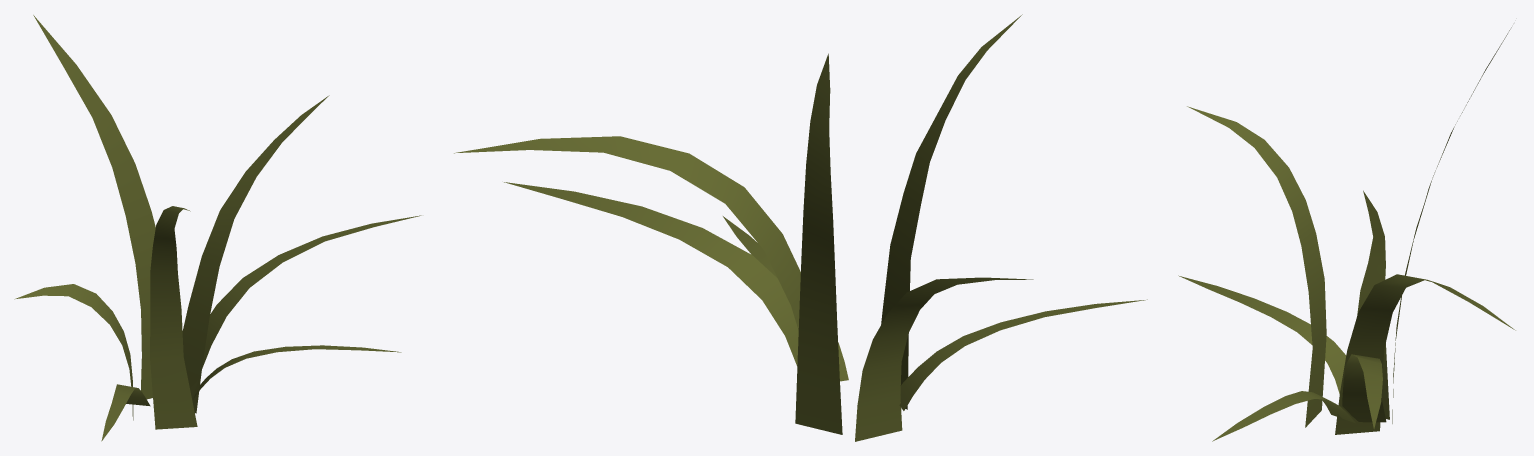
File: TallGrass.fbx
The picture shows the model from 3 angles, left to right: view 1: azimuth 30°, elevation 25°; view 2: azimuth 150°, elevation 25°; view 3: azimuth 270°, elevation 25°; orthographic projection. The views are drawn at different scales.
Parts seen in each view (by area): view 1: Tall_Grass_Blade3, Tall_Grass_Blade, Tall_Grass_Blade2, Tall_Grass_Blade4, Tall_Grass_Blade1, Tall_Grass_Blade5, Tall_Grass_Blade6; view 2: Tall_Grass_Blade, Tall_Grass_Blade2, Tall_Grass_Blade1, Tall_Grass_Blade4, Tall_Grass_Blade3, Tall_Grass_Blade6, Tall_Grass_Blade5; view 3: Tall_Grass_Blade3, Tall_Grass_Blade2, Tall_Grass_Blade4, Tall_Grass_Blade6, Tall_Grass_Blade1, Tall_Grass_Blade5, Tall_Grass_Blade.
Boxes of the visible parts, x1,y1,x2,y2 form: Tall_Grass_Blade3: (150, 206, 197, 429); Tall_Grass_Blade: (33, 15, 155, 399); Tall_Grass_Blade2: (182, 95, 329, 413); Tall_Grass_Blade4: (190, 215, 421, 398); Tall_Grass_Blade1: (14, 284, 133, 420); Tall_Grass_Blade5: (193, 345, 401, 399); Tall_Grass_Blade6: (101, 384, 150, 441); Tall_Grass_Blade: (795, 53, 842, 434); Tall_Grass_Blade2: (454, 136, 800, 329); Tall_Grass_Blade1: (855, 277, 1033, 441); Tall_Grass_Blade4: (504, 182, 798, 365); Tall_Grass_Blade3: (881, 14, 1022, 409); Tall_Grass_Blade6: (899, 299, 1147, 410); Tall_Grass_Blade5: (723, 216, 848, 381); Tall_Grass_Blade3: (1187, 106, 1326, 427); Tall_Grass_Blade2: (1335, 274, 1515, 434); Tall_Grass_Blade4: (1342, 354, 1386, 428); Tall_Grass_Blade6: (1178, 275, 1346, 393); Tall_Grass_Blade1: (1357, 190, 1389, 419); Tall_Grass_Blade5: (1212, 391, 1355, 441); Tall_Grass_Blade: (1392, 27, 1511, 423).
Bounding box in the file's own units: 1.94 × 1.6 × 1.29.
